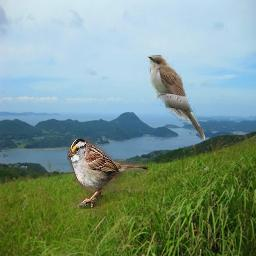Cuckoo: (147, 56, 205, 141)
Sparrow: (68, 139, 149, 210)
